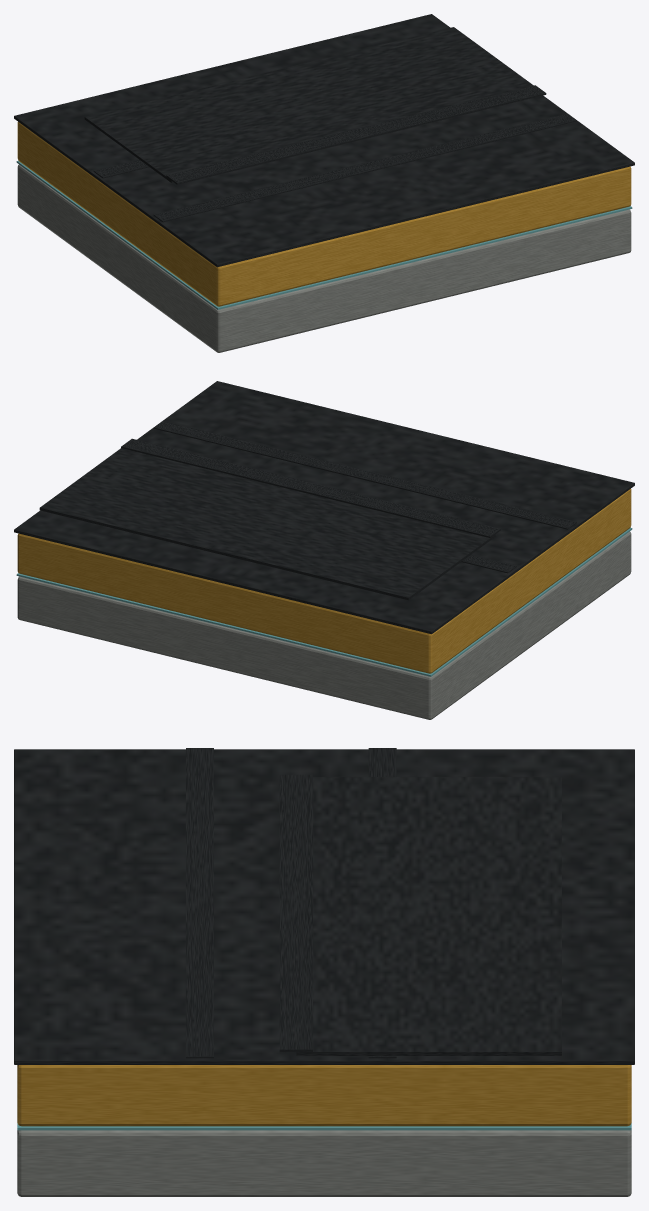
File: modell.glb
The picture shows the model from 3 angles, top to bottom: view 1: azimuth 30°, elevation 25°; view 2: azimuth 150°, elevation 25°; view 3: azimuth 270°, elevation 25°; orthographic projection. The views are drawn at different scales.
Parts seen in each view (by area): view 1: f01-abdichtung_deckung, f01-abdichtung_deckung.001, f01-untergrund_tragwerk, f01-daemmung_daemmung, f01-naht_deckung, f01-luftdichtheit_luftdichtheit; view 2: f01-abdichtung_deckung, f01-abdichtung_deckung.001, f01-untergrund_tragwerk, f01-daemmung_daemmung, f01-naht_deckung, f01-luftdichtheit_luftdichtheit; view 3: f01-abdichtung_deckung, f01-abdichtung_deckung.001, f01-untergrund_tragwerk, f01-daemmung_daemmung, f01-naht_deckung, f01-luftdichtheit_luftdichtheit.
Boxes of the visible parts, left/top/right/bottom form: f01-abdichtung_deckung: left=14, top=14, right=634, bottom=267; f01-abdichtung_deckung.001: left=84, top=27, right=533, bottom=182; f01-untergrund_tragwerk: left=17, top=164, right=631, bottom=352; f01-daemmung_daemmung: left=17, top=122, right=631, bottom=306; f01-naht_deckung: left=93, top=85, right=576, bottom=222; f01-luftdichtheit_luftdichtheit: left=16, top=160, right=632, bottom=309; f01-abdichtung_deckung: left=14, top=381, right=634, bottom=634; f01-abdichtung_deckung.001: left=39, top=448, right=495, bottom=600; f01-untergrund_tragwerk: left=17, top=531, right=631, bottom=719; f01-daemmung_daemmung: left=17, top=489, right=631, bottom=673; f01-naht_deckung: left=121, top=421, right=576, bottom=573; f01-luftdichtheit_luftdichtheit: left=16, top=527, right=632, bottom=676; f01-abdichtung_deckung: left=14, top=749, right=634, bottom=1064; f01-abdichtung_deckung.001: left=296, top=777, right=561, bottom=1055; f01-untergrund_tragwerk: left=17, top=1130, right=631, bottom=1196; f01-daemmung_daemmung: left=17, top=1065, right=631, bottom=1126; f01-naht_deckung: left=186, top=748, right=396, bottom=1058; f01-luftdichtheit_luftdichtheit: left=17, top=1123, right=631, bottom=1130.
Size of the model in its own units: 2.22 by 0.494 by 1.87.
4 materials, 3 textured.
